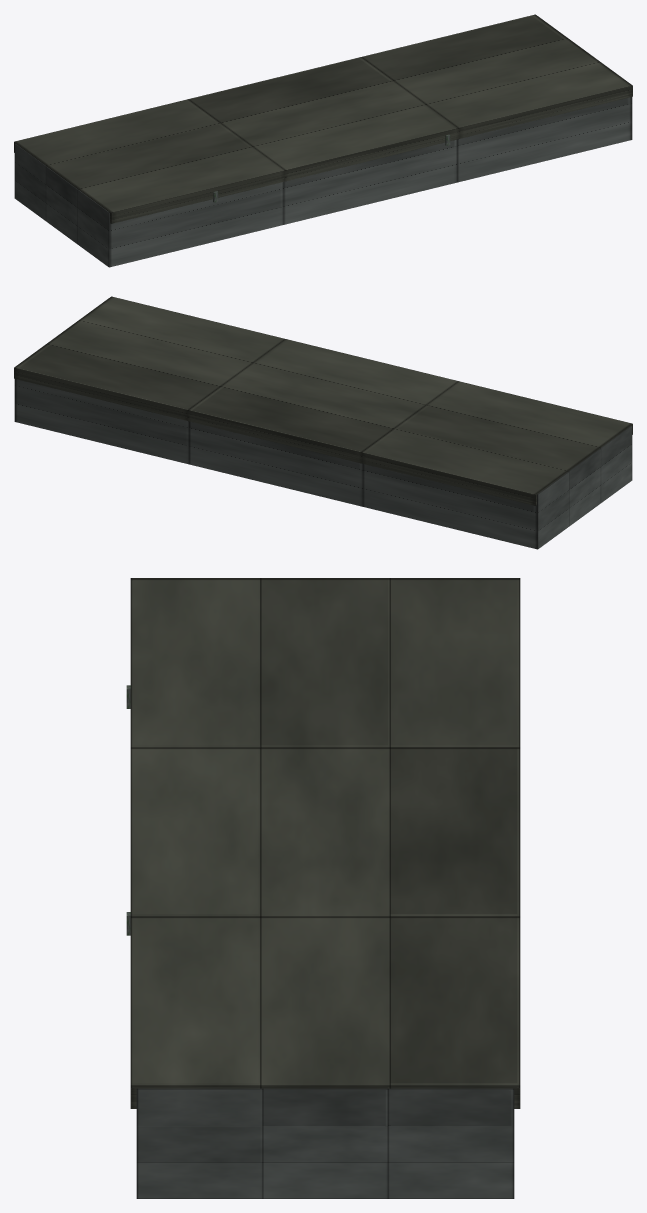
Rendered from step.glb.
3 views of the same model, one above another, from view 1: azimuth 30°, elevation 25°; view 2: azimuth 150°, elevation 25°; view 3: azimuth 270°, elevation 25° (orthographic). The views are drawn at different scales.
Parts seen in each view (by area): view 1: Art_StoneLedge, Step; view 2: Art_StoneLedge, Step; view 3: Art_StoneLedge, Step.
Part boxes in pixels (left/top/right/bottom): Art_StoneLedge: left=14, top=14, right=632, bottom=223; Step: left=14, top=19, right=632, bottom=267; Art_StoneLedge: left=14, top=296, right=632, bottom=505; Step: left=14, top=301, right=632, bottom=549; Art_StoneLedge: left=130, top=578, right=520, bottom=1108; Step: left=136, top=1088, right=514, bottom=1198.
Size of what is drawn, in the model's own units: 1.6 by 0.162 by 0.5215.
3 materials, 3 textured.
